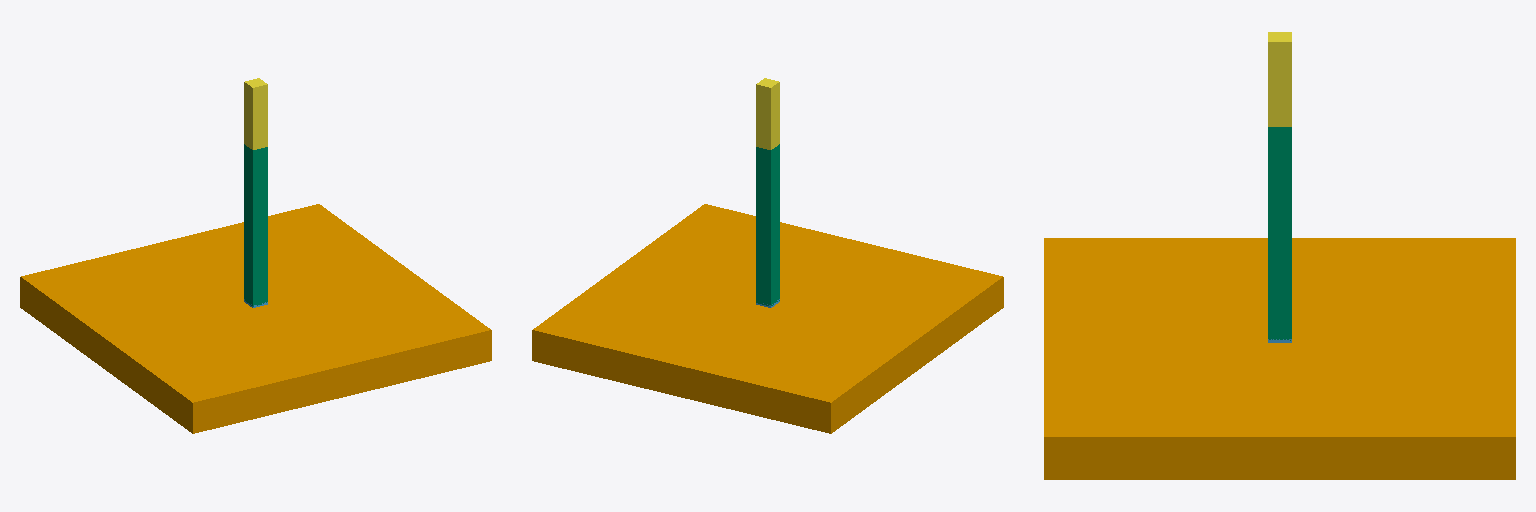
URDF robot description (robot):
<?xml version="1.0" encoding="utf-8"?>
<!-- =================================================================================== -->
<!-- |    This document was autogenerated by xacro from robot.xacro                    | -->
<!-- |    EDITING THIS FILE BY HAND IS NOT RECOMMENDED                                 | -->
<!-- =================================================================================== -->
  <!-- | 
    <material name="yellow"
	    <color rgba="1 0.4 0 1"/>
    </material>
    <material name="black">
    	<color rgba="0 0 0 0.95"/>
    </material>
    <material name="grew">
        <color rgba="0.75 0.75 0.75 1"/>
    </material>
| -->
<robot name="robot" >

  <link name="base_link">
    <visual>
      <origin rpy="0 0 0" xyz="0 0 0.05"/>
      <geometry>
                <box size="1.0 1.0 0.1"/>
      </geometry>
    </visual>
    <collision>
      <origin rpy="0 0 0" xyz="0 0 0.04"/>
      <geometry>
                <box size="1.0 1.0 0.1"/>
      </geometry>
    </collision>

    <inertial>
      <origin rpy="0 0 0" xyz="0 0 0.04"/>
      <mass value="636.134233847578"/>
      <inertia ixx="1639.81286905023" ixy="-36.6455977200006" ixz="-0.782493840000301" iyy="1639.91375187705" iyz="-5.77195100431517" izz="3261.44630486213"/>
    </inertial>
  </link>


  <joint name="yawl_joint" type="continuous">
    <origin rpy="0 0 0" xyz="0 0 0.1"/>
    <parent link="base_link"/>
    <child link="yawl_link"/>
    <axis xyz="0 0 1"/>
  </joint>

  <link name="yawl_link">
    
    <inertial>
      <origin rpy="0 0 0" xyz="0 0 0.04"/>
      <mass value="636.134233847578"/>
      <inertia ixx="1639.81286905023" ixy="-36.6455977200006" ixz="-0.782493840000301" iyy="1639.91375187705" iyz="-5.77195100431517" izz="3261.44630486213"/>
    </inertial>
    <visual>
      <origin rpy="0 0 0" xyz="0 0 0.005"/>
      <geometry>
                       <box size="0.05 0.05 0.01"/>
      </geometry>
    </visual>
    <collision>
      <origin rpy="0 0 0" xyz="0 0 0.004"/>
      <geometry>
        <box size="0.05 0.05 0.01"/>
      </geometry>
    </collision>
  </link>

  <joint name="pitch_joint11" type="continuous">
    <origin rpy="0 0 0" xyz="0 0 0.005"/>
    <parent link="yawl_link"/>
    <child link="pitch_link1"/>
    <axis xyz="1 0 0"/>
  </joint>

  <link name="pitch_link1">

    <inertial>
      <origin rpy="0 0 0" xyz="0 0 0.04"/>
      <mass value="636.134233847578"/>
      <inertia ixx="1639.81286905023" ixy="-36.6455977200006" ixz="-0.782493840000301" iyy="1639.91375187705" iyz="-5.77195100431517" izz="3261.44630486213"/>
    </inertial>
    <visual>
      <origin rpy="0 0 0" xyz="0 0 0.25"/>
      <geometry>
        <box size="0.05 0.05 0.5"/>
      </geometry>
    </visual>
    <collision>
      <origin rpy="0 0 0" xyz="0 0 0.20"/>
      <geometry>
        <box size="0.05 0.05 0.5"/>
      </geometry>
    </collision>
  </link>

  <link name="pitch_link2">
    <!--<cylinder_inertial_matrix m="1" r="0.05" h="0.2"/>-->
    <inertial>
      <origin rpy="0 0 0" xyz="0 0 0.04"/>
      <mass value="636.134233847578"/>
      <inertia ixx="1639.81286905023" ixy="-36.6455977200006" ixz="-0.782493840000301" iyy="1639.91375187705" iyz="-5.77195100431517" izz="3261.44630486213"/>
    </inertial>
    <visual>
      <origin rpy="0 0 0" xyz="0 0 0.1"/>
      <geometry>
        <box size="0.05 0.05 0.2"/>
      </geometry>
    </visual>
    <collision>
      <origin rpy="0 0 0" xyz="0 0 0.07"/>
      <geometry>
        <box size="0.05 0.05 0.2"/>
      </geometry>
    </collision>
  </link>

  <joint name="pitch_joint2" type="continuous">
    <origin rpy="0 0 0" xyz="0 0 0.5"/>
    <parent link="pitch_link1"/>
    <child link="pitch_link2"/>
    <axis xyz="1 0 0"/>
  </joint>

</robot>

--- Facts derived from the render (not from the file) ---
The picture shows the robot from 3 angles, left to right: view 1: azimuth 30°, elevation 25°; view 2: azimuth 150°, elevation 25°; view 3: azimuth 270°, elevation 25°; orthographic projection.
Robot: robot — 4 links, 3 joints (3 continuous); root link base_link; default pose: every joint at zero.
Visible links, largest first — view 1: base_link, pitch_link1, pitch_link2; view 2: base_link, pitch_link1, pitch_link2; view 3: base_link, pitch_link1, pitch_link2.
Boxes of the visible links, x1,y1,x2,y2 form: base_link: [20, 204, 491, 433]; pitch_link1: [244, 144, 267, 306]; pitch_link2: [244, 78, 267, 149]; base_link: [532, 204, 1003, 433]; pitch_link1: [756, 144, 779, 305]; pitch_link2: [756, 78, 779, 149]; base_link: [1044, 238, 1515, 479]; pitch_link1: [1268, 127, 1291, 340]; pitch_link2: [1268, 32, 1291, 126].
Bounding box of the posed robot: 1 × 1 × 0.805 m (x, y, z).
Geometry: primitives only (box / cylinder / sphere), no mesh files.